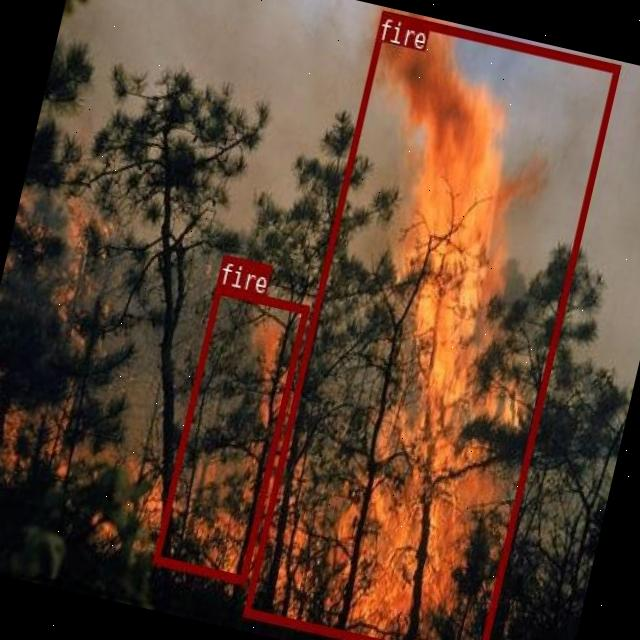fire: (243, 9, 619, 640), (152, 283, 308, 582)
